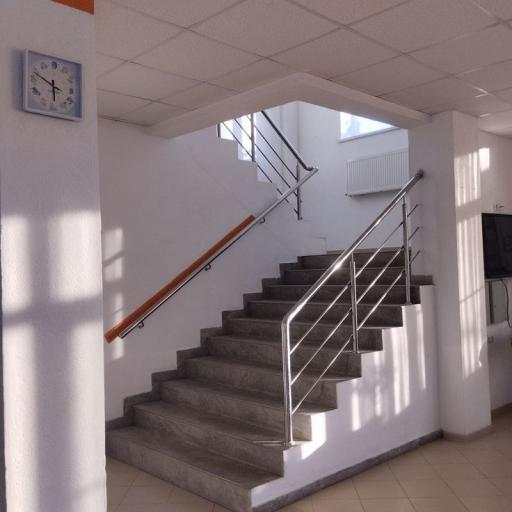sofa: (107, 255, 404, 511)
